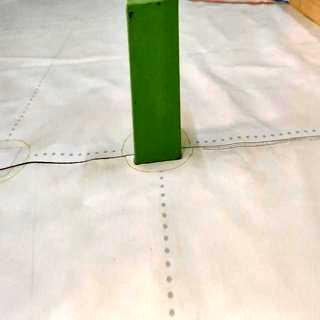greenbox: (125, 0, 189, 167)
